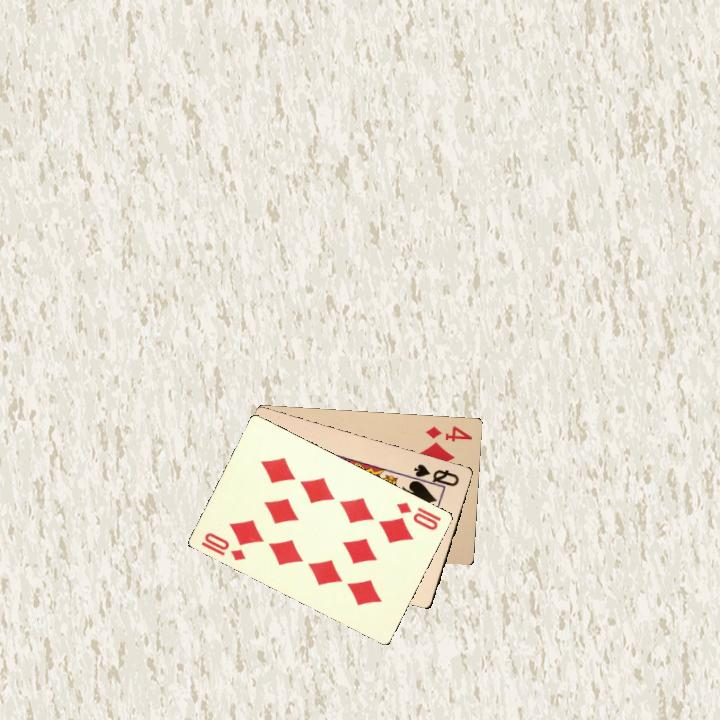10d: (392, 498, 443, 533), (197, 528, 248, 563)
4d: (422, 422, 475, 444)
Qs: (406, 460, 462, 491)
